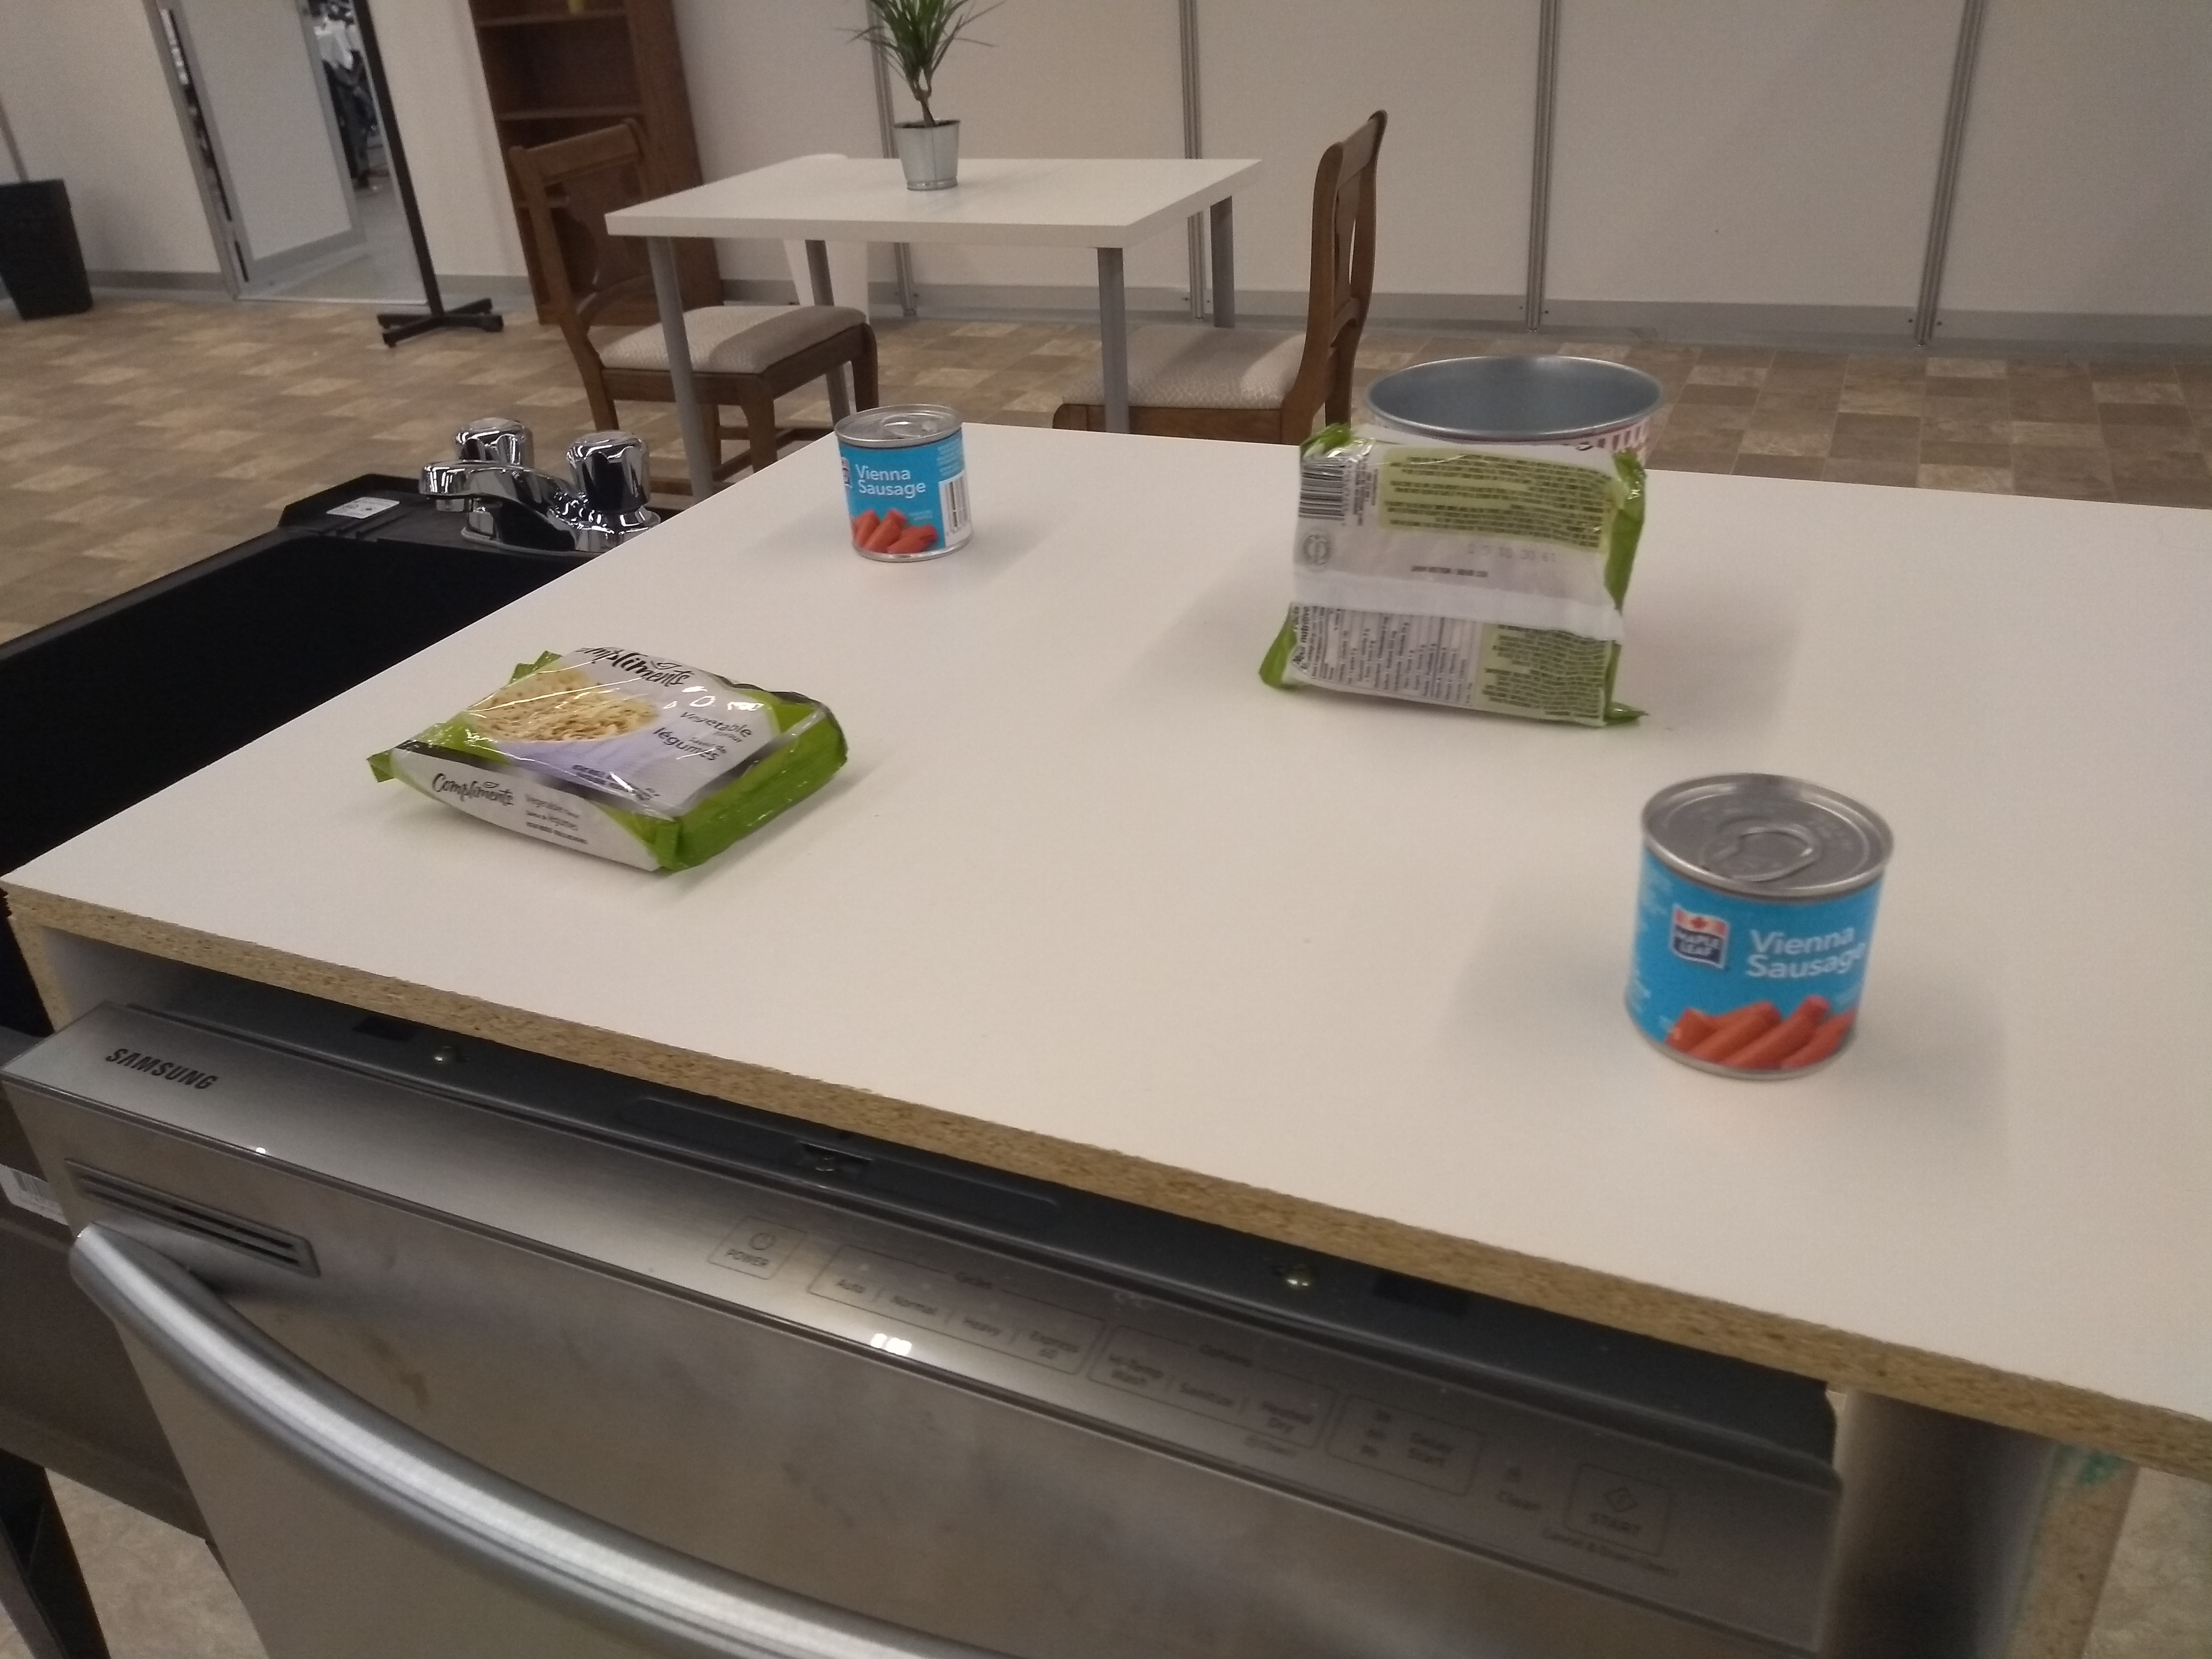noodles: (1240, 425, 1670, 732), (354, 634, 867, 887)
sausages: (1615, 763, 1907, 1084), (831, 399, 984, 572)
